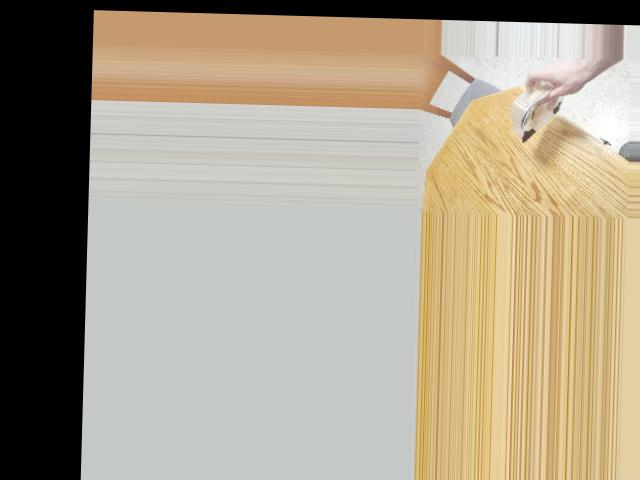cheese: (497, 77, 584, 140)
